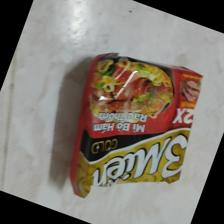3mien: (68, 52, 203, 203)
